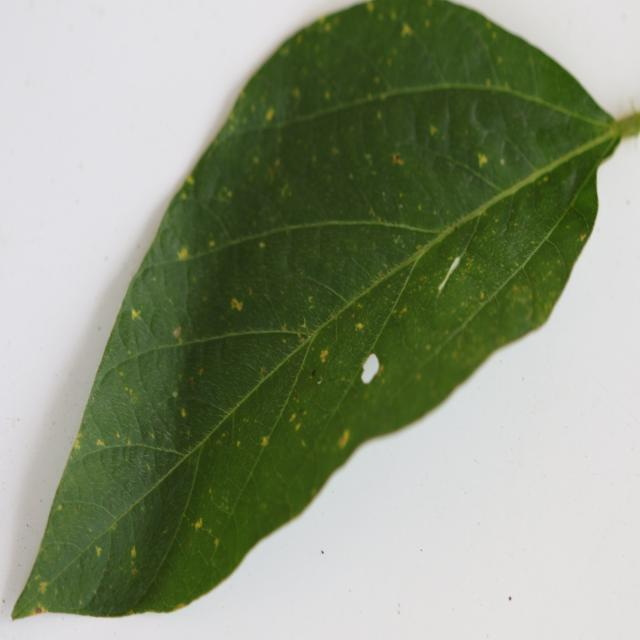Soybean: (12, 0, 640, 620)
downey_mildew: (228, 260, 379, 484), (254, 84, 555, 147), (118, 450, 212, 610), (36, 440, 184, 531), (316, 246, 417, 371), (19, 500, 130, 612), (403, 181, 484, 323), (491, 118, 618, 206), (492, 187, 581, 305), (182, 217, 420, 260), (375, 224, 448, 344), (436, 84, 609, 133), (124, 323, 308, 366), (430, 193, 497, 304), (254, 337, 314, 452), (289, 259, 373, 317), (424, 149, 512, 203), (483, 248, 535, 336), (191, 195, 249, 253), (212, 293, 277, 341), (80, 442, 185, 467), (207, 470, 244, 515), (563, 200, 592, 240)
